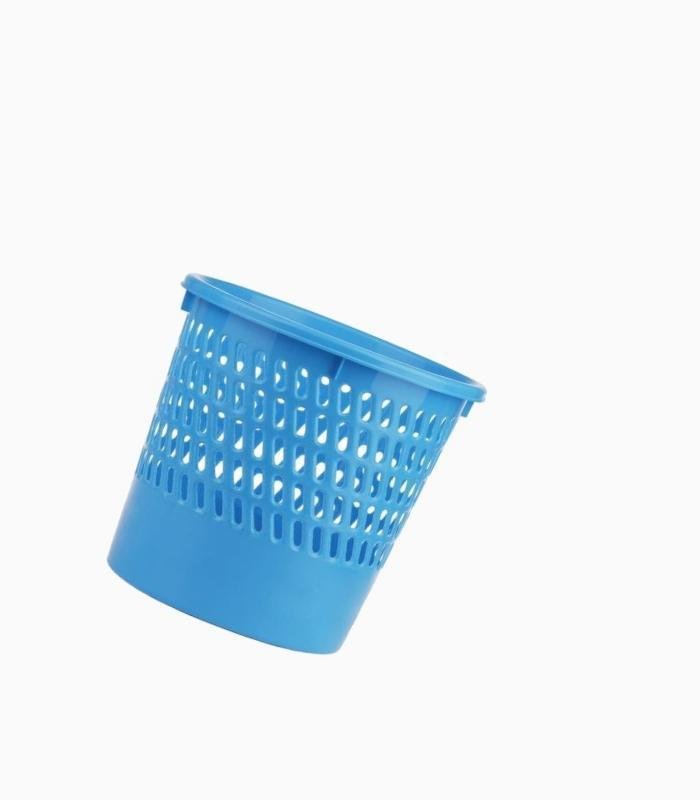Bote de Basura: (100, 272, 477, 662)
